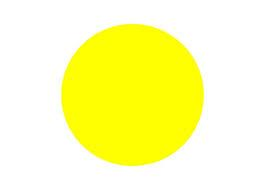yellow_circle: (53, 16, 214, 176)
